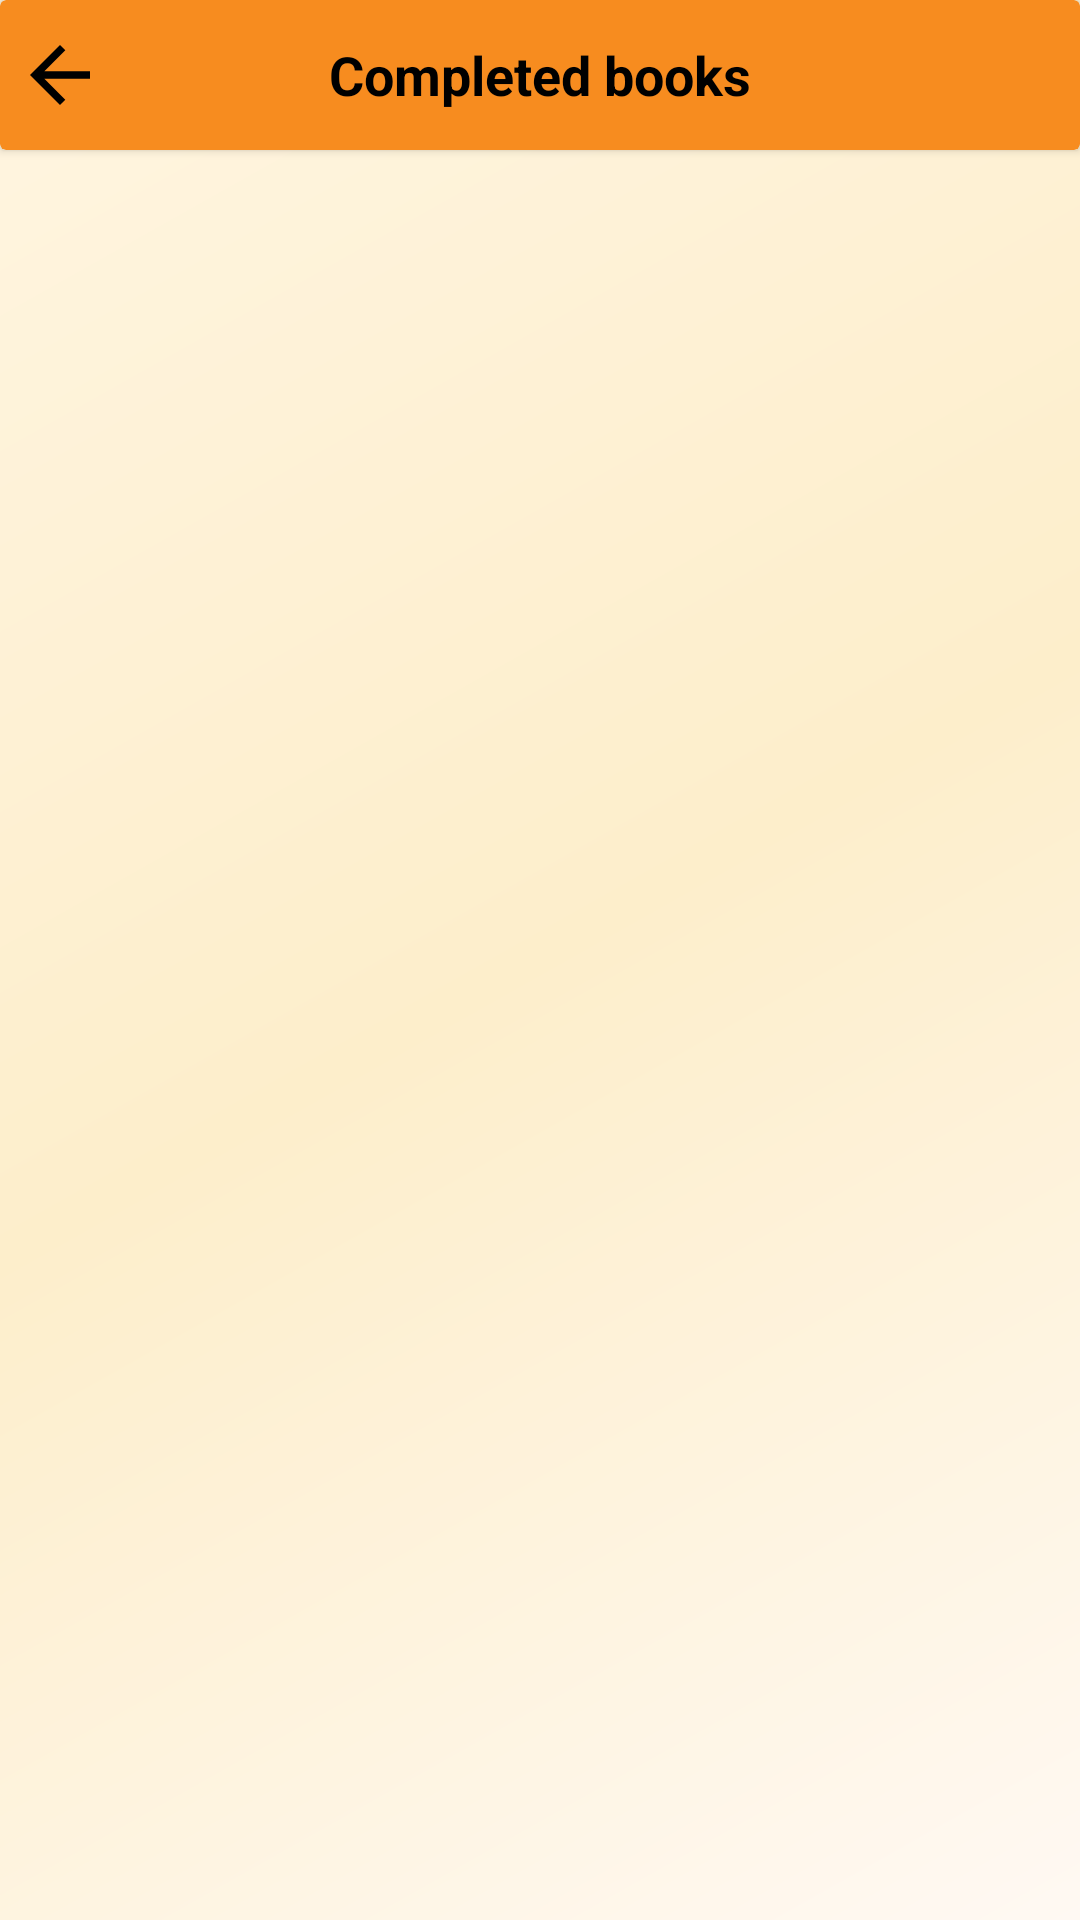

Where to tap for icons on this 1080w x 1920h app screen, as (x,y):
arrow back: (60,75)
